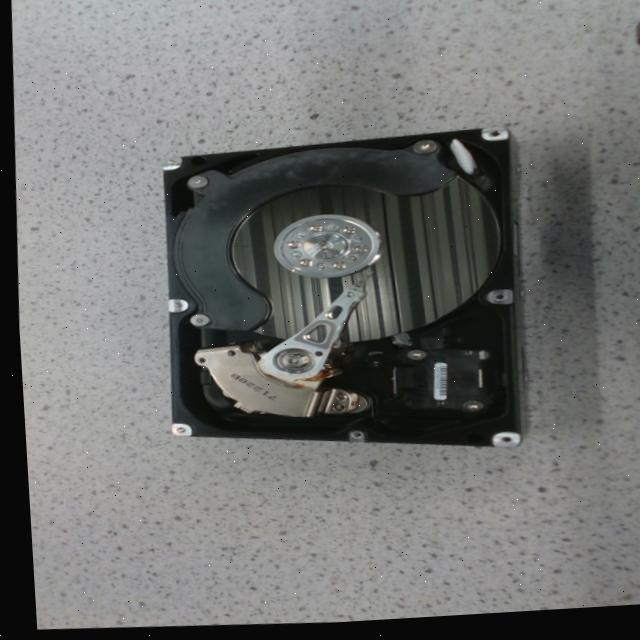actuator arm: (256, 288, 361, 380)
actuator axis: (271, 354, 305, 374)
case: (161, 133, 515, 452)
magnet: (190, 347, 309, 419)
pcb connector: (377, 341, 485, 418)
platter: (231, 182, 499, 344)
platter holder: (270, 217, 376, 280)
platter protector: (172, 141, 451, 334)
screw: (410, 144, 435, 158), (184, 177, 204, 191), (186, 315, 205, 328), (456, 405, 478, 416), (401, 353, 420, 363), (294, 261, 312, 270), (304, 226, 319, 235), (349, 248, 363, 256), (337, 228, 351, 236), (327, 266, 342, 272), (284, 243, 295, 250)
